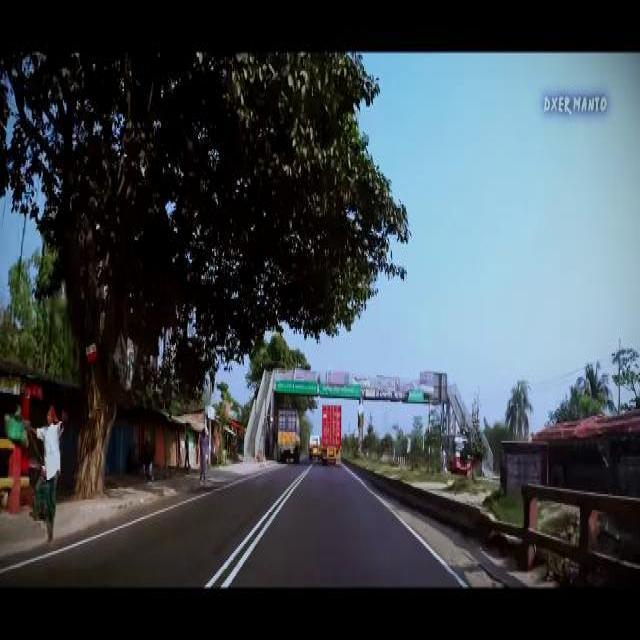vehicle: (320, 402, 342, 468), (277, 408, 302, 465), (445, 431, 471, 474), (307, 435, 321, 463)
